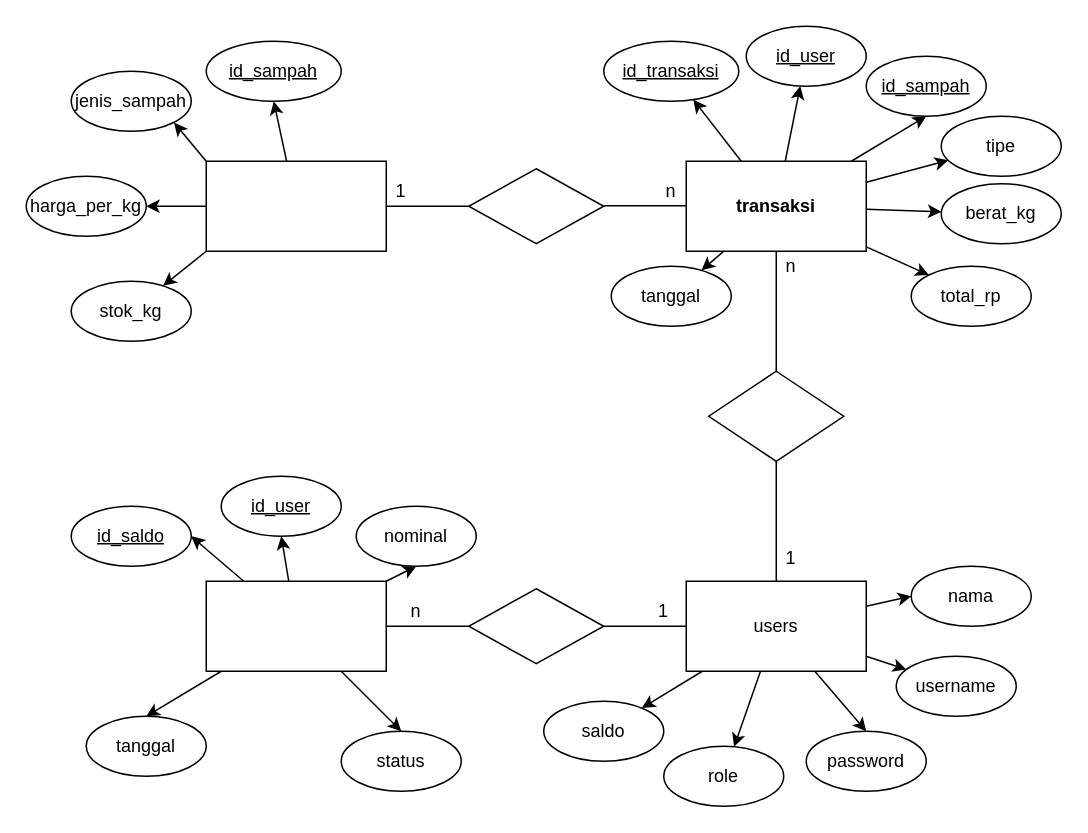
This 1088x833 diagram has some shape labels left out. Here are the shapes that lost their labels. From the top down, the centre of each, then its label:
[295,205]: Sampah
[535,205]: Memiliki
[775,415]: dialakukan oleh
[295,625]: tarik_saldo
[535,625]: melakukan
